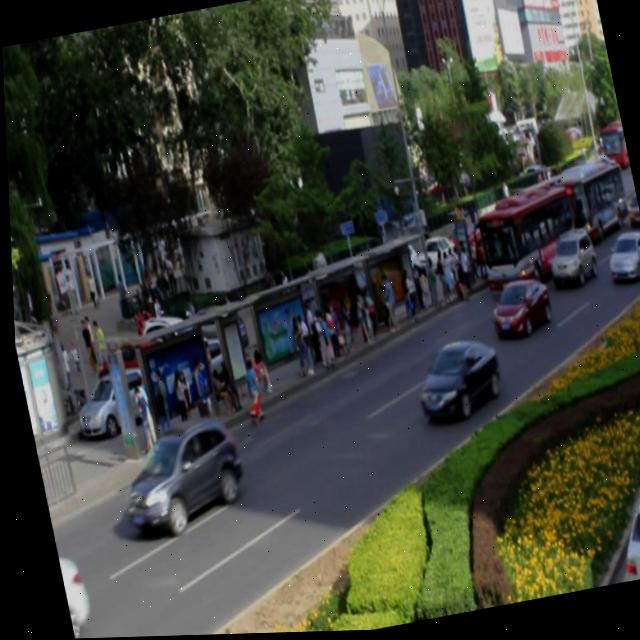car: (108, 412, 249, 542), (405, 335, 502, 427), (482, 278, 550, 343), (540, 229, 596, 290), (599, 231, 640, 288)
van: (462, 179, 579, 297), (540, 153, 629, 250)
